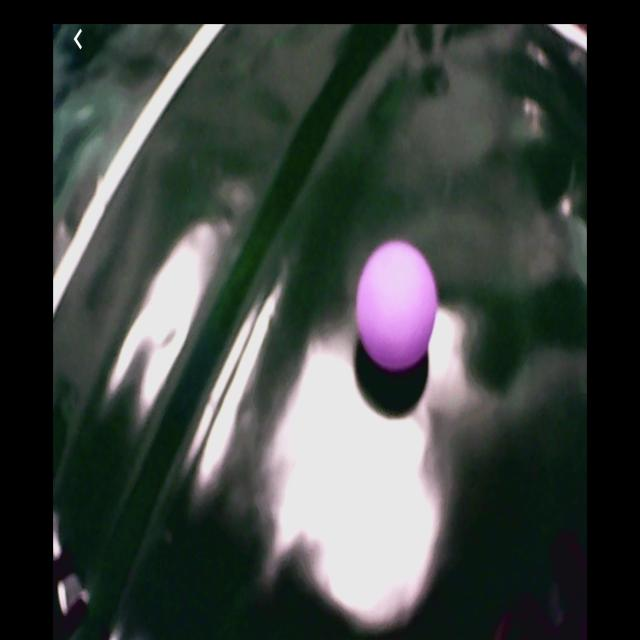ball: (358, 244, 437, 368)
